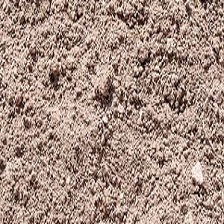clay_soil: (7, 16, 211, 207)
